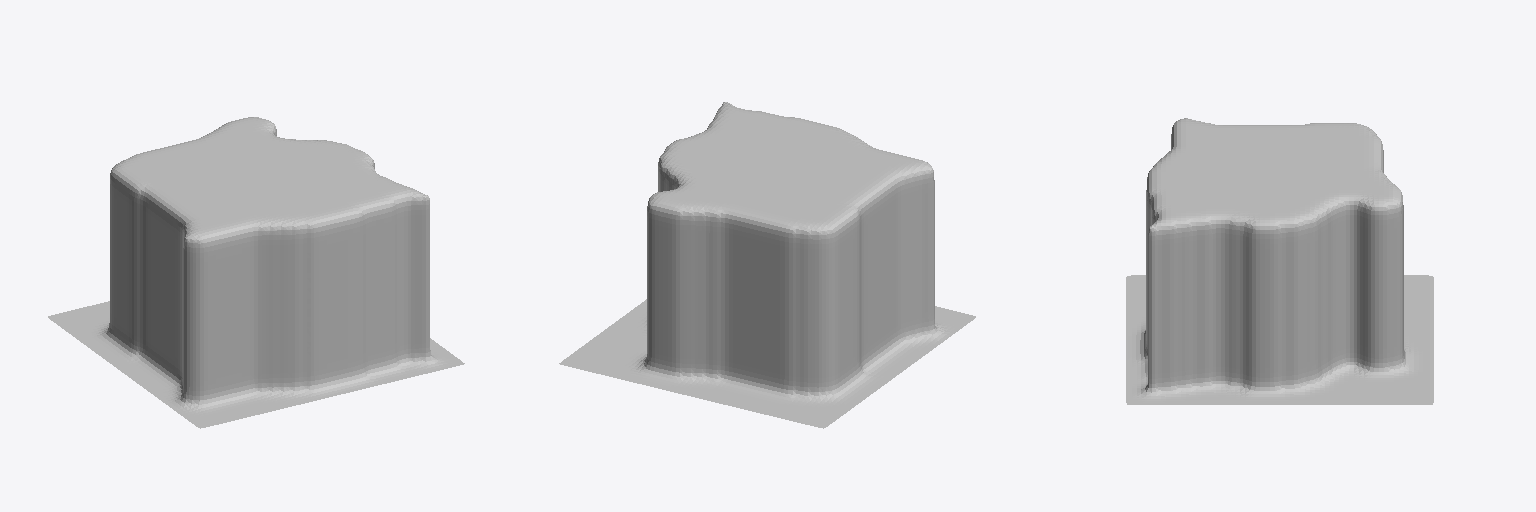
File: mesa2.obj
3 renders of one model, left to right at view 1: azimuth 30°, elevation 25°; view 2: azimuth 150°, elevation 25°; view 3: azimuth 270°, elevation 25°, orthographic.
Visible parts, largest first — view 1: Plane; view 2: Plane; view 3: Plane.
Boxes of the visible parts, box(x1,y1,x2,y2) form: Plane: box(48, 117, 464, 428); Plane: box(559, 102, 975, 428); Plane: box(1126, 118, 1433, 404).
Bounding box in the file's own units: 33.81 × 20.48 × 33.81.